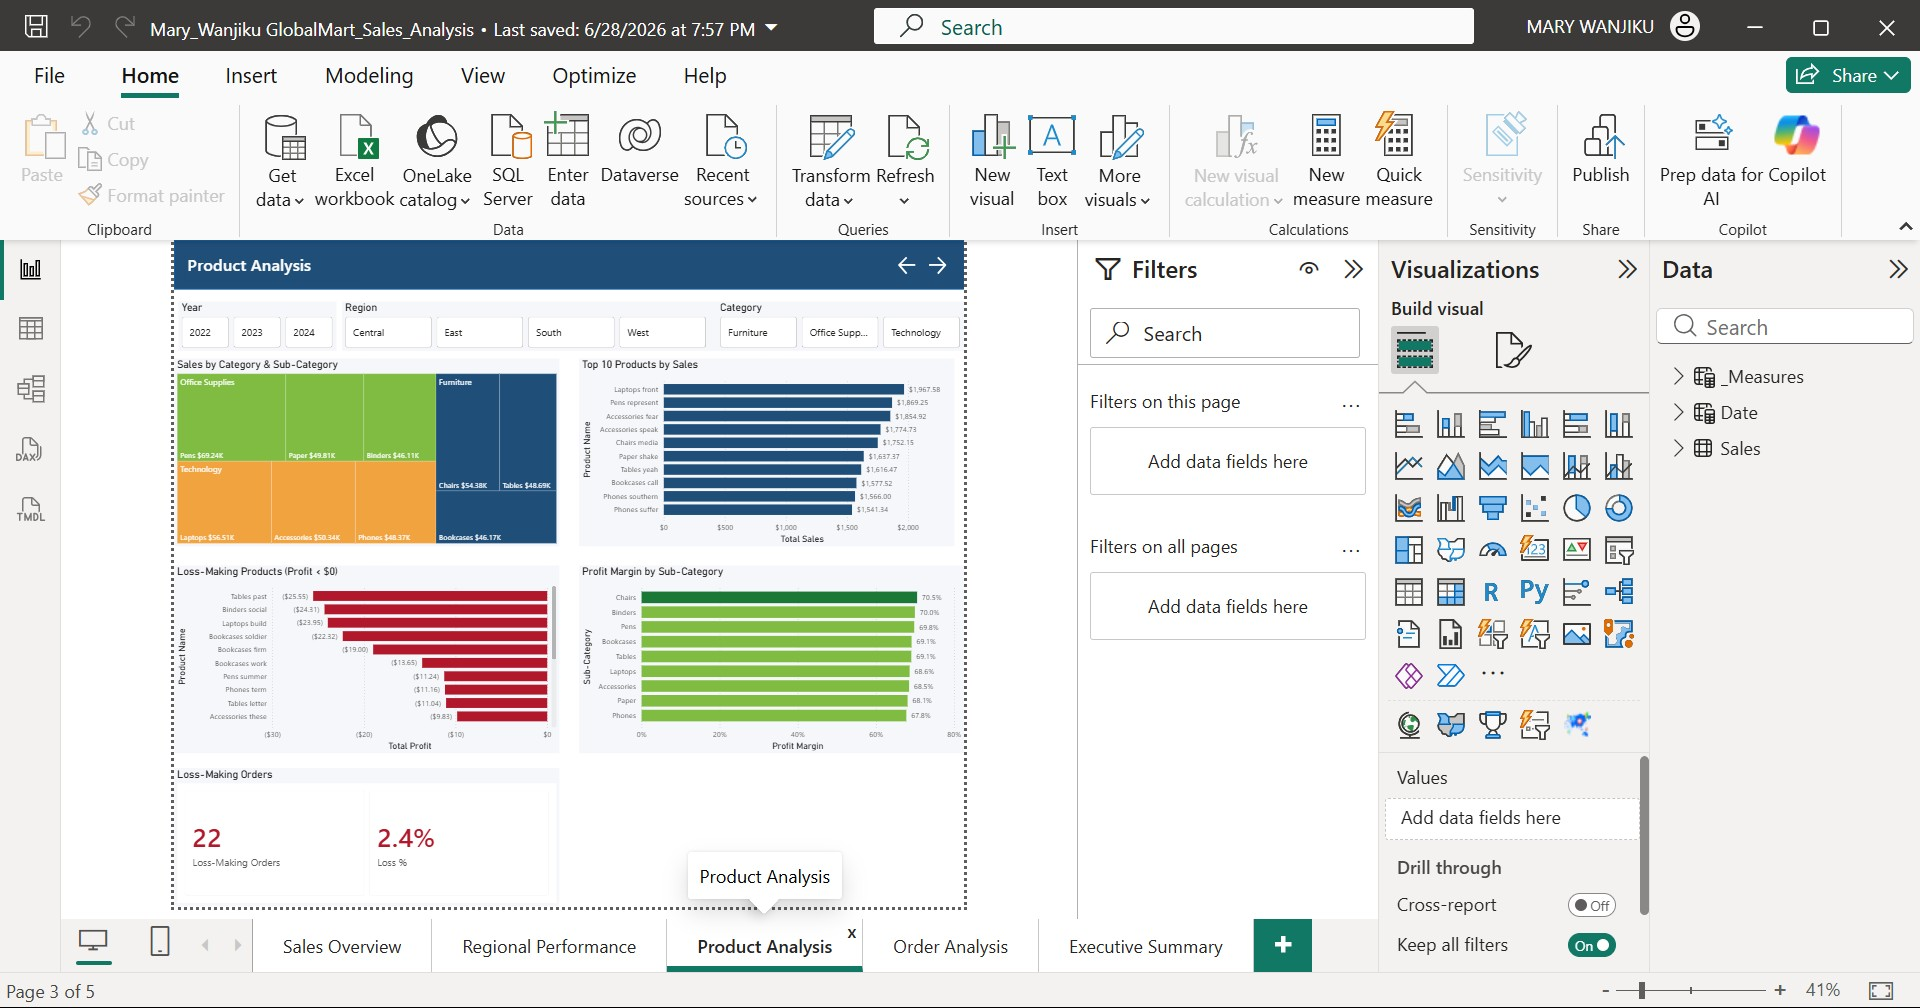

The page's visual inventory and layout, read from the dashboard file:
{"tool":"powerbi","page":{"name":"Product Analysis","canvas":[1280,1080],"ordinal":2},"visuals":[{"type":"group","id":"g1","title":"Group 1","box":[0,0,1280,80],"z":0},{"type":"shape","box":[0,0,1280,80],"z":0,"group":"g1"},{"type":"textbox","box":[16,16,288,48],"z":1000,"group":"g1"},{"type":"advancedSlicerVisual","fields":{"Values":["Sales.Region"]},"box":[272.3,99.3,608,80],"z":1000},{"type":"advancedSlicerVisual","fields":{"Values":["DimDate.Year"]},"box":[8.3,99.3,256,80],"z":2000},{"type":"advancedSlicerVisual","fields":{"Values":["Sales.Category"]},"box":[880,99.3,400,80],"z":3000},{"type":"treemap","title":"Sales by Category & Sub-Category","fields":{"Group":["Sales.Category"],"Details":["Sales.Sub-Category"],"Values":["_Measures.Total Sales"]},"box":[0,192,624,304],"z":4000},{"type":"clusteredBarChart","title":"Top 10 Products by Sales","fields":{"Category":["Sales.Product Name"],"Y":["_Measures.Total Sales"]},"box":[656,192,608,304],"z":5000},{"type":"clusteredBarChart","title":"Loss-Making Products (Profit < $0)","fields":{"Category":["Sales.Product Name"],"Y":["_Measures.Total Profit"]},"box":[0,528,624,304],"z":6000},{"type":"clusteredBarChart","title":"Profit Margin by Sub-Category","fields":{"Category":["Sales.Sub-Category"],"Y":["_Measures.Profit Margin"]},"box":[656,528,624,304],"z":7000},{"type":"cardVisual","title":"Loss-Making Orders","fields":{"Data":["_Measures.Loss-Making Orders","_Measures.Loss %"]},"box":[0,856,624,224],"z":8000},{"type":"actionButton","box":[1216,16,48,48],"z":9000},{"type":"actionButton","box":[1168,16,32,48],"z":10000}]}

Visuals, with their boxes on the page's 1280x1080 design canvas (x1, y1, x2, y2). These are canvas units, not pixel positions in the 1920x1008 screenshot, which may show the page scaled, cropped or inside an application window:
"Group 1" group: 0, 0, 1280, 80
shape: 0, 0, 1280, 80
textbox: 16, 16, 304, 64
advancedSlicerVisual - Sales.Region: 272, 99, 880, 179
advancedSlicerVisual - DimDate.Year: 8, 99, 264, 179
advancedSlicerVisual - Sales.Category: 880, 99, 1280, 179
"Sales by Category & Sub-Category" treemap: 0, 192, 624, 496
"Top 10 Products by Sales" clusteredBarChart: 656, 192, 1264, 496
"Loss-Making Products (Profit < $0)" clusteredBarChart: 0, 528, 624, 832
"Profit Margin by Sub-Category" clusteredBarChart: 656, 528, 1280, 832
"Loss-Making Orders" cardVisual: 0, 856, 624, 1080
actionButton: 1216, 16, 1264, 64
actionButton: 1168, 16, 1200, 64
